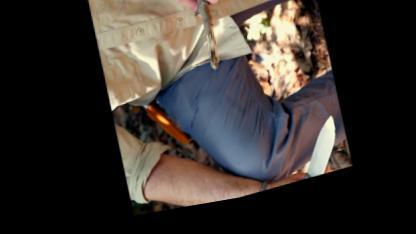knife: (271, 122, 342, 194)
